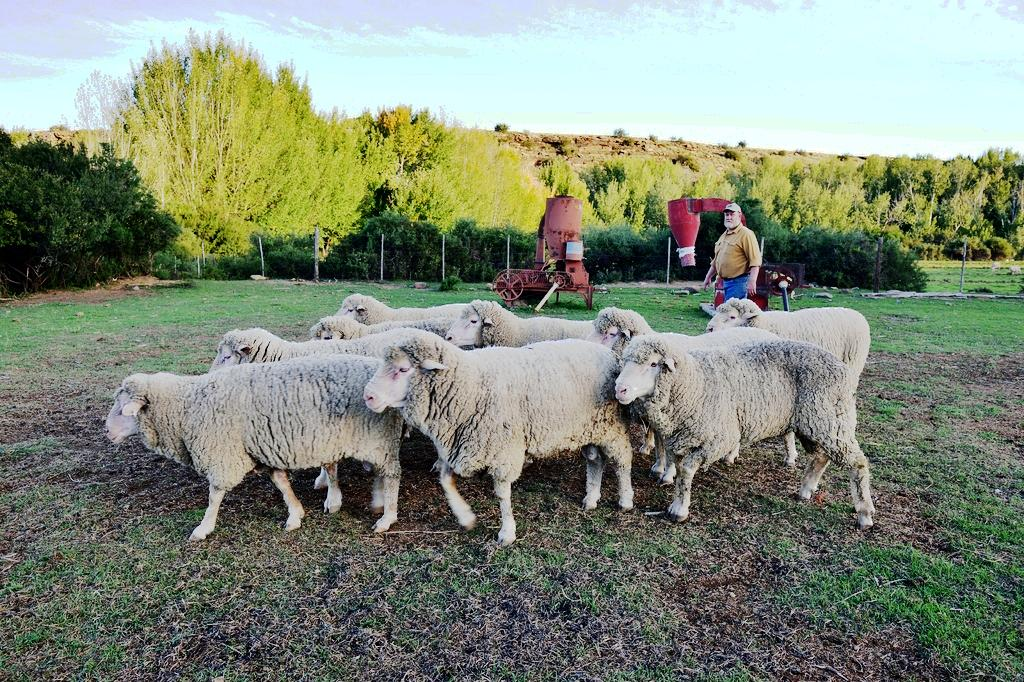Sheep: (362, 330, 637, 547), (103, 351, 407, 544), (613, 333, 876, 532), (700, 298, 871, 464), (584, 306, 783, 392), (206, 326, 389, 404), (443, 297, 600, 378), (304, 314, 458, 362), (334, 292, 471, 338)
